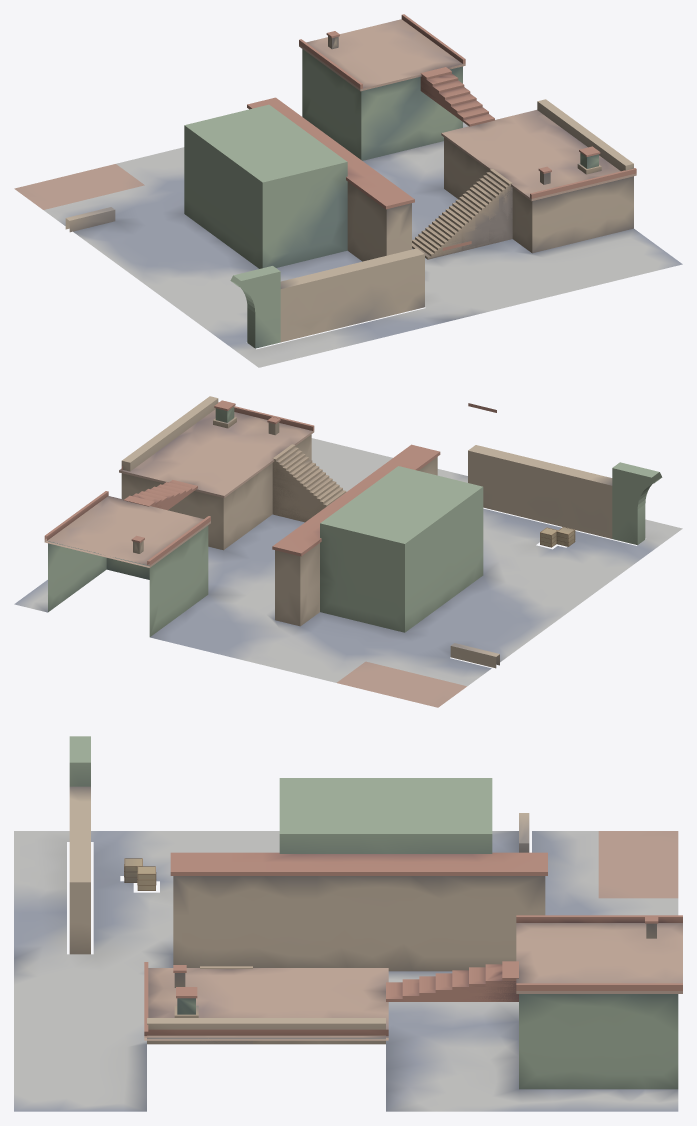
The picture shows the model from 3 angles, top to bottom: view 1: azimuth 30°, elevation 25°; view 2: azimuth 150°, elevation 25°; view 3: azimuth 270°, elevation 25°; orthographic projection. The views are drawn at different scales.
Parts seen in each view (by area): view 1: t; view 2: t; view 3: t.
Boxes of the visible parts, box(x1,y1,x2,y2) form: t: box(14, 14, 682, 367); t: box(14, 396, 682, 707); t: box(14, 736, 682, 1111).
Bounding box in the file's own units: 50.58 × 10 × 50.35.
